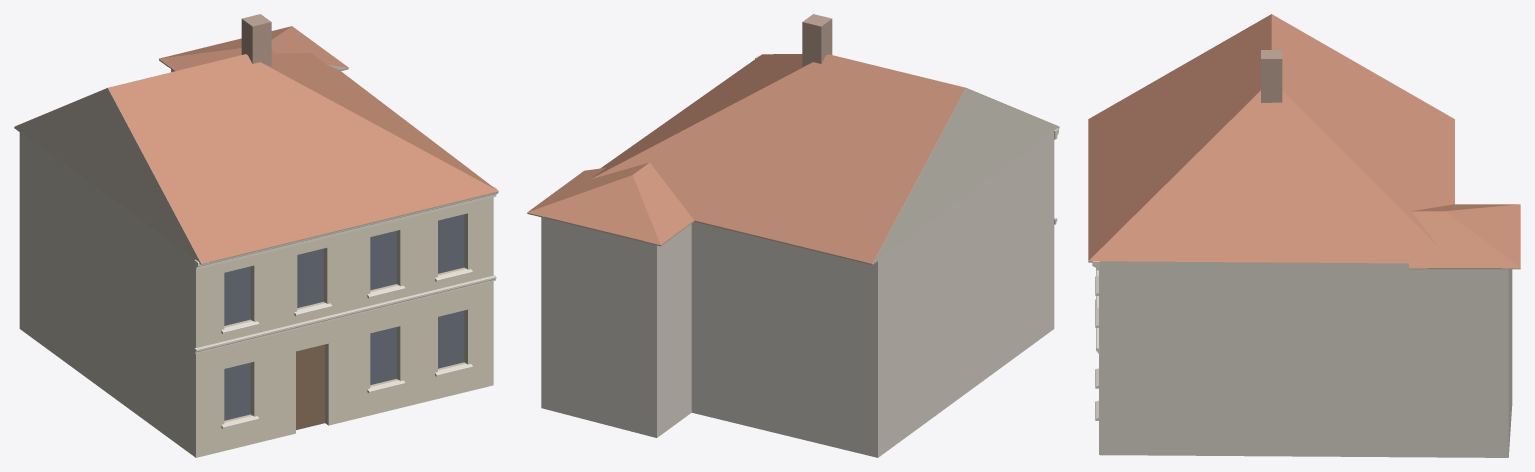
3 views of the same model, side by side, from view 1: azimuth 30°, elevation 25°; view 2: azimuth 150°, elevation 25°; view 3: azimuth 270°, elevation 25° (orthographic). The views are drawn at different scales.
Parts seen in each view (by area): view 1: CP_1712_Masonry, CP_1712_Roof, CP_1712_Gable_L_gable, CP_1712_WingRoof_Rear_Projection, CP_1712_Cornice_string_0, CP_1712_Chimney_0, CP_1712_Cornice_eave_0, CP_1712_Roof_EaveClosure_0; view 2: CP_1712_Masonry, CP_1712_Roof, CP_1712_Gable_L_gable, CP_1712_WingRoof_Rear_Projection, CP_1712_Chimney_0; view 3: CP_1712_Masonry, CP_1712_Roof, CP_1712_WingRoof_Rear_Projection, CP_1712_Chimney_0.
Boxes of the visible parts, x1,y1,x2,y2 form: CP_1712_Masonry: (19,69,493,457); CP_1712_Roof: (15,53,498,263); CP_1712_Gable_L_gable: (14,88,208,264); CP_1712_WingRoof_Rear_Projection: (159,26,348,70); CP_1712_Cornice_string_0: (194,275,496,353); CP_1712_Chimney_0: (241,14,271,66); CP_1712_Cornice_eave_0: (194,186,498,269); CP_1712_Roof_EaveClosure_0: (199,191,498,264); CP_1712_Masonry: (541,131,1054,457); CP_1712_Roof: (590,54,1058,263); CP_1712_Gable_L_gable: (864,88,1059,264); CP_1712_WingRoof_Rear_Projection: (527,162,693,244); CP_1712_Chimney_0: (802,14,832,66); CP_1712_Masonry: (1099,261,1512,457); CP_1712_Roof: (1088,14,1454,263); CP_1712_WingRoof_Rear_Projection: (1409,204,1520,267); CP_1712_Chimney_0: (1261,50,1282,102).
Bounding box in the file's own units: 11.57 × 11.9 × 14.15.
